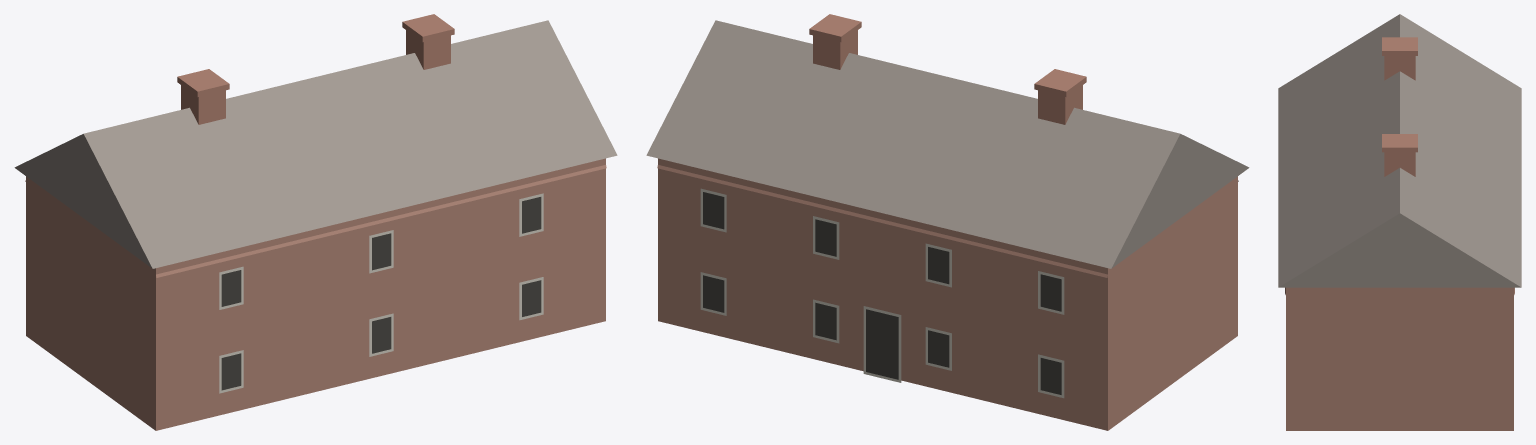
The model's file is fort_dearborn_commandants_quarters__brick_1816.glb.
The picture shows the model from 3 angles, left to right: view 1: azimuth 30°, elevation 25°; view 2: azimuth 150°, elevation 25°; view 3: azimuth 270°, elevation 25°; orthographic projection. The views are drawn at different scales.
Visible parts, largest first — view 1: fort_dearborn_commandants_quarters__brick_1816; view 2: fort_dearborn_commandants_quarters__brick_1816; view 3: fort_dearborn_commandants_quarters__brick_1816.
Boxes of the visible parts, x1,y1,x2,y2 form: fort_dearborn_commandants_quarters__brick_1816: (14,14,617,430); fort_dearborn_commandants_quarters__brick_1816: (646,14,1249,430); fort_dearborn_commandants_quarters__brick_1816: (1278,14,1521,430).
Bounding box in the file's own units: 15.74 × 8.98 × 8.12.
